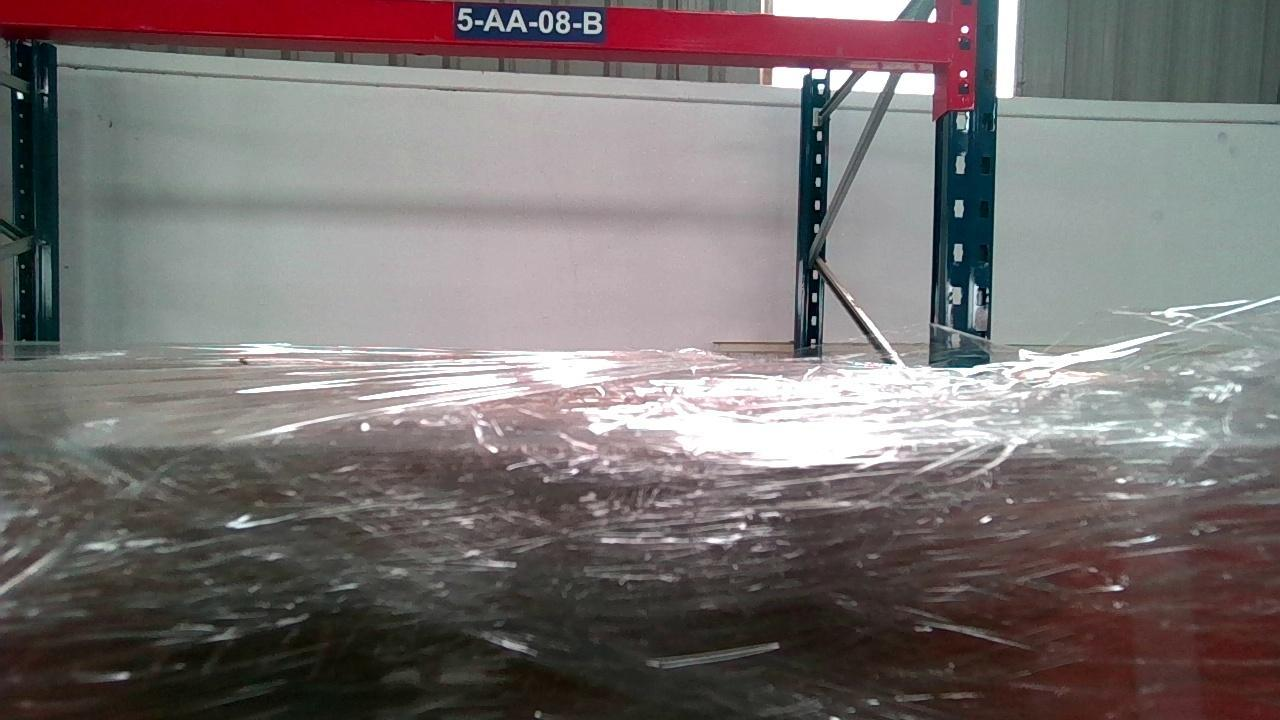h_rack: (3, 0, 948, 61)
